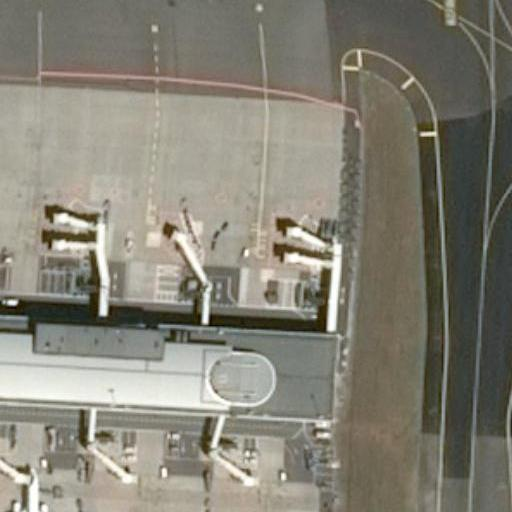Aircraft: (0, 468, 85, 512), (0, 0, 38, 35)
